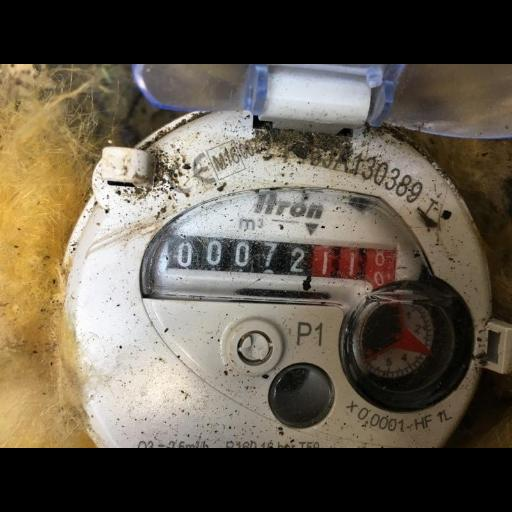0: (168, 235, 200, 270), (225, 237, 256, 273), (198, 235, 228, 271)
1: (333, 245, 367, 281), (311, 244, 337, 278)
2: (280, 242, 313, 277)
7: (253, 239, 282, 275)
8: (364, 248, 397, 292)
border_water_meter_number: (166, 234, 398, 293)
